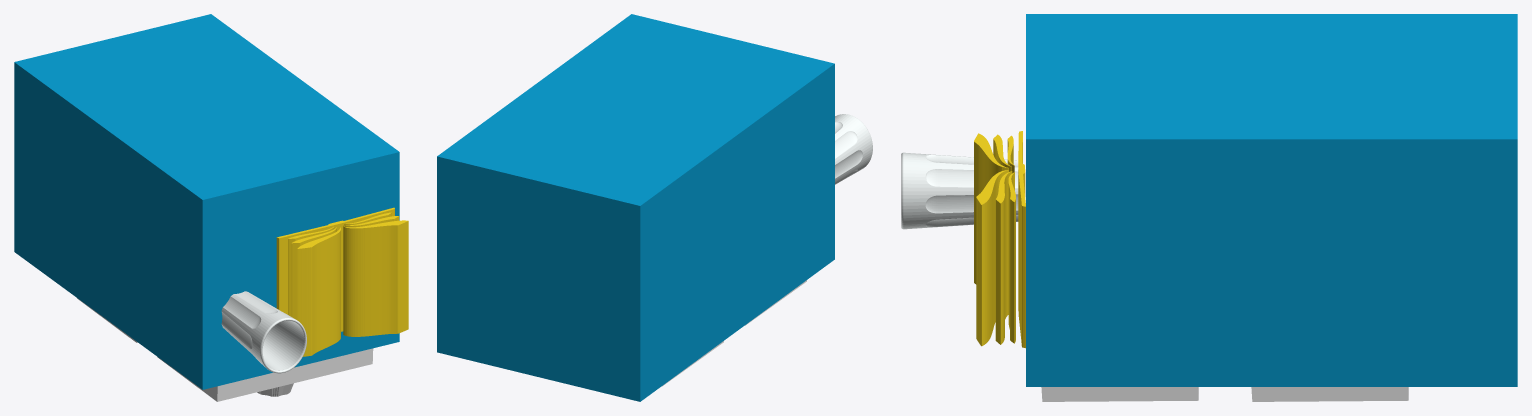
The model's file is tinker.obj.
3 renders of one model, left to right at view 1: azimuth 30°, elevation 25°; view 2: azimuth 150°, elevation 25°; view 3: azimuth 270°, elevation 25°, orthographic. The views are drawn at different scales.
Parts seen in each view (by area): view 1: group_0_40919, group_0_16768282, group_0_16383999, group_0_16448250; view 2: group_0_40919, group_0_16383999; view 3: group_0_40919, group_0_16768282, group_0_16383999, group_0_16448250.
Part boxes in pixels (box(x1,y1,x2,y2)): group_0_40919: box(14, 14, 399, 389); group_0_16768282: box(276, 207, 408, 356); group_0_16383999: box(221, 291, 306, 373); group_0_16448250: box(77, 298, 373, 401); group_0_40919: box(437, 14, 834, 401); group_0_16383999: box(835, 114, 872, 184); group_0_40919: box(1026, 14, 1517, 386); group_0_16768282: box(974, 131, 1025, 348); group_0_16383999: box(901, 152, 1018, 229); group_0_16448250: box(1041, 387, 1408, 401).
Size of the model in its own units: 38 by 45 by 79.
